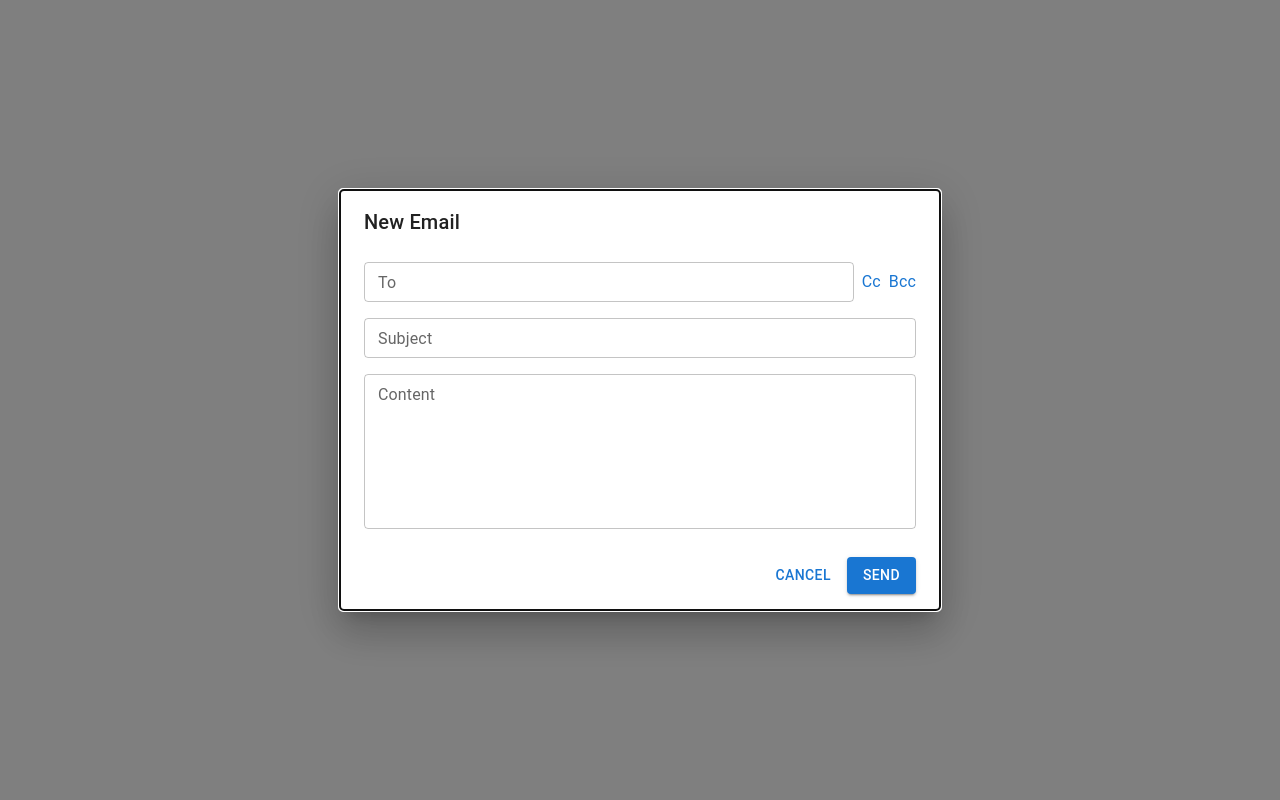
Test: ComposeEmail Component › Send/Cancel buttons disabled when loading
Type "a@b.com" into the field labelled "To" at (609, 282), box [364,262,854,302]
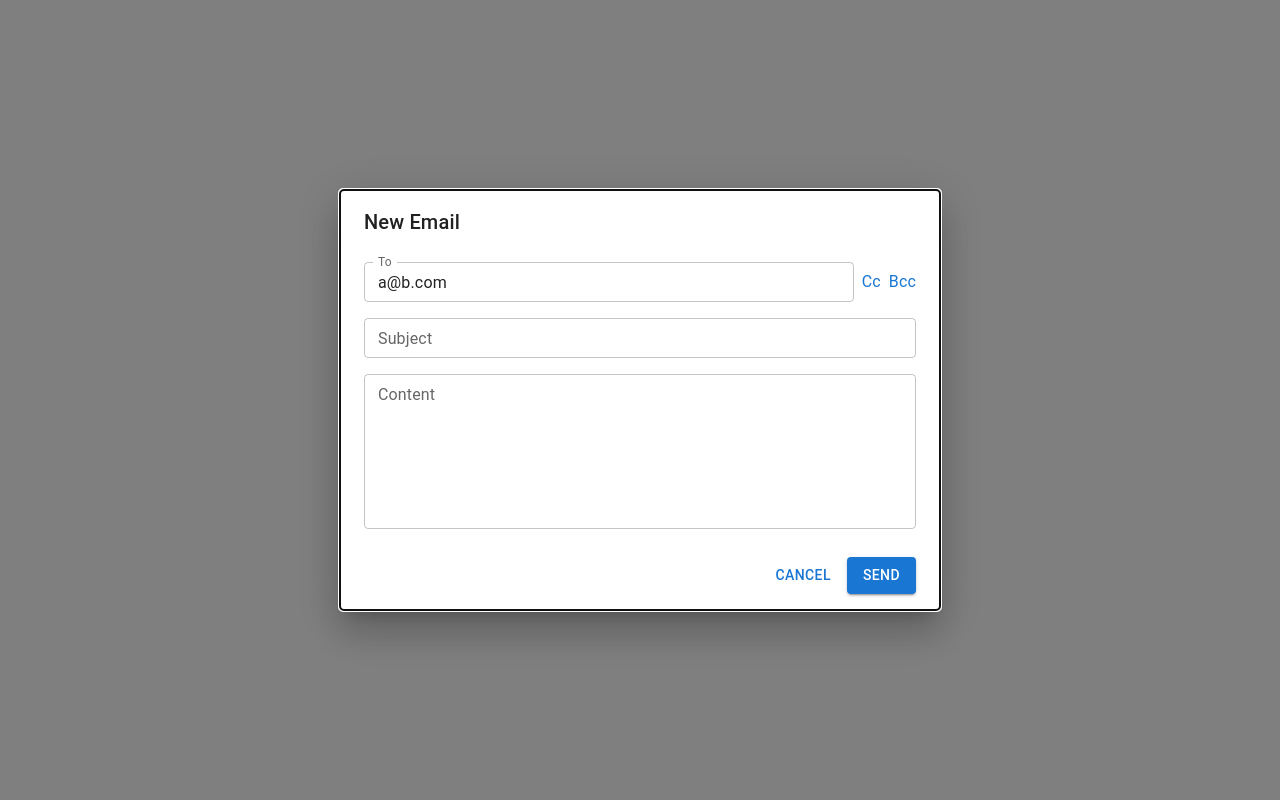
Type "Body" into the text box labelled "Content" at (640, 452), box [378,383,902,521]
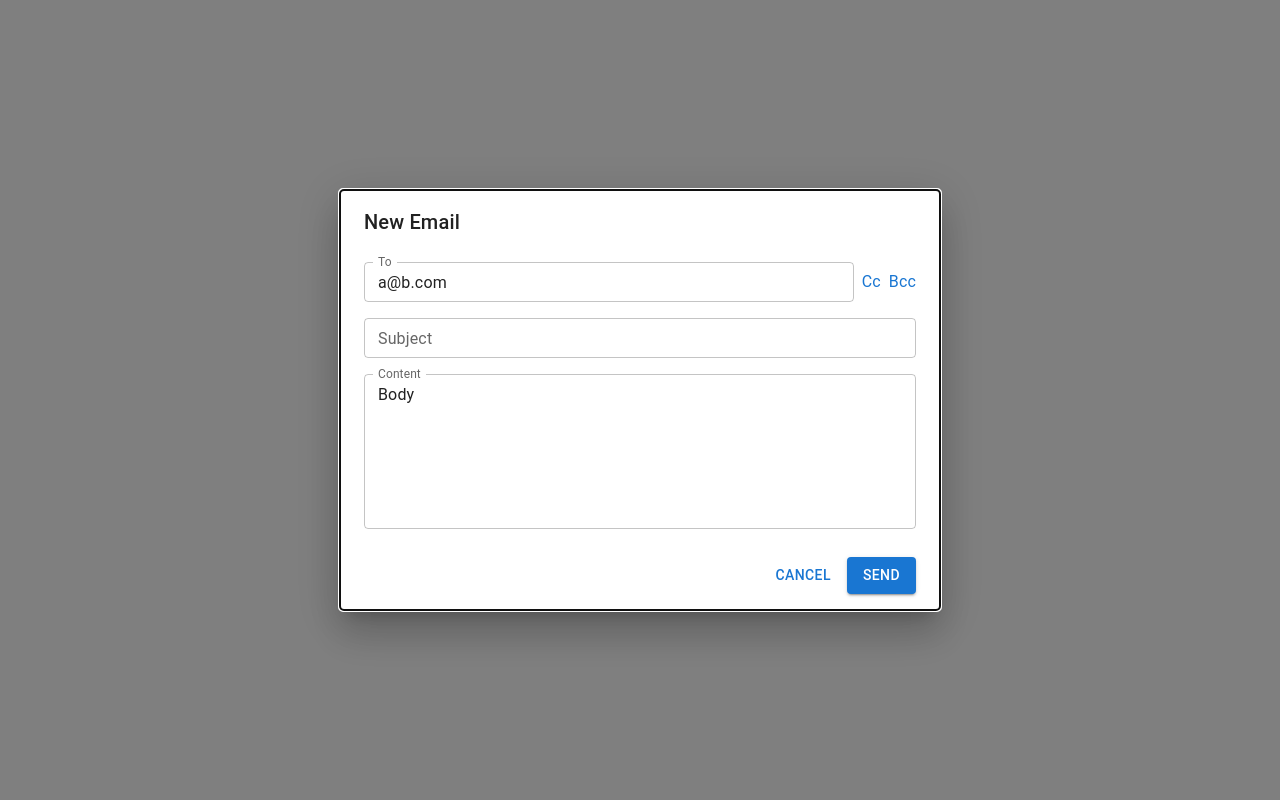
Click the button "Send" at (881, 576), box [847,557,916,594]
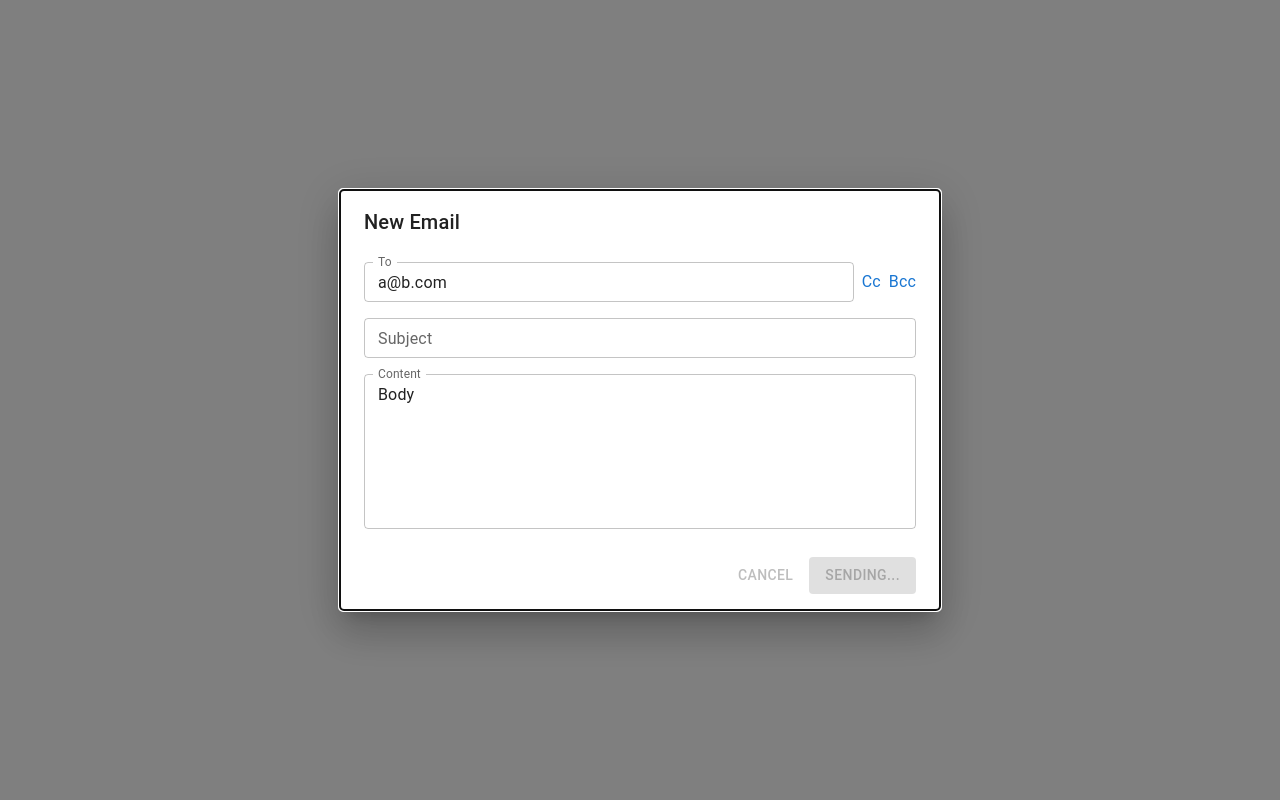
expect the button "Sending..." is disabled: met, box [809,557,916,594]
expect the button "Cancel" is disabled: met, box [730,557,801,594]
